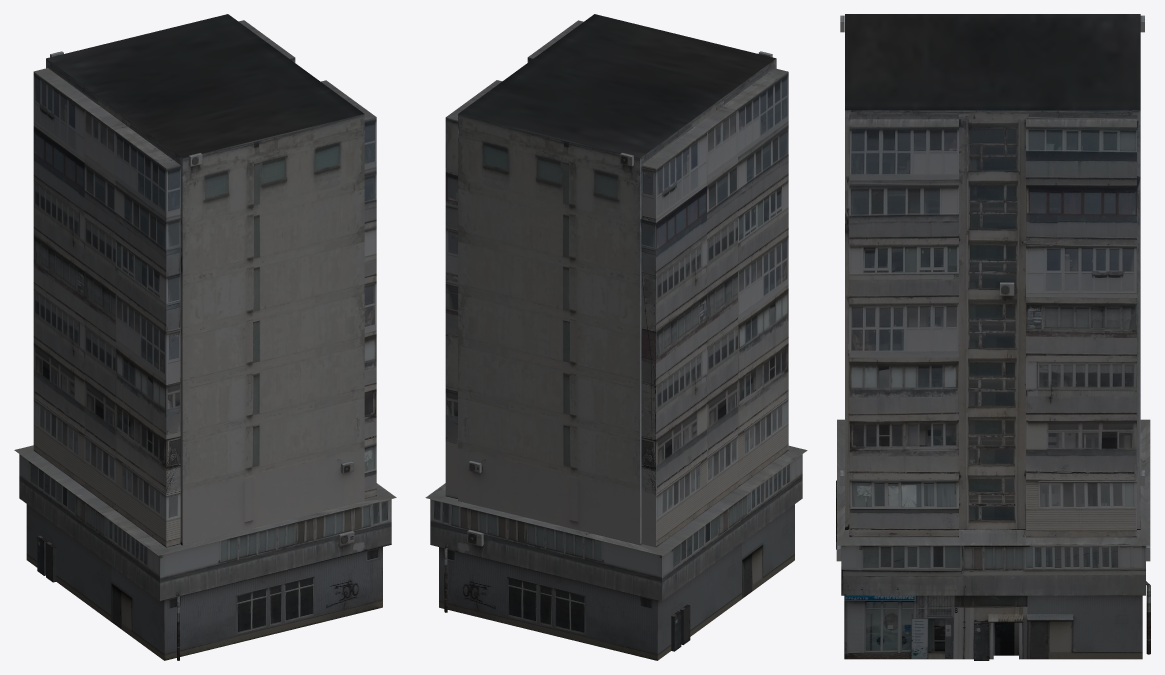
The model's file is 9house.glb.
3 renders of one model, left to right at view 1: azimuth 30°, elevation 25°; view 2: azimuth 150°, elevation 25°; view 3: azimuth 270°, elevation 25°, orthographic. The views are drawn at different scales.
Parts seen in each view (by area): view 1: Cube_0; view 2: Cube_0; view 3: Cube_0.
Part boxes in pixels (x1=…): Cube_0: x1=14, y1=14, x2=396, y2=660; Cube_0: x1=425, y1=14, x2=807, y2=660; Cube_0: x1=836, y1=14, x2=1150, y2=660.
Bounding box in the file's own units: 14.2 × 28.42 × 15.
Materials: 1 (1 with a texture image).
